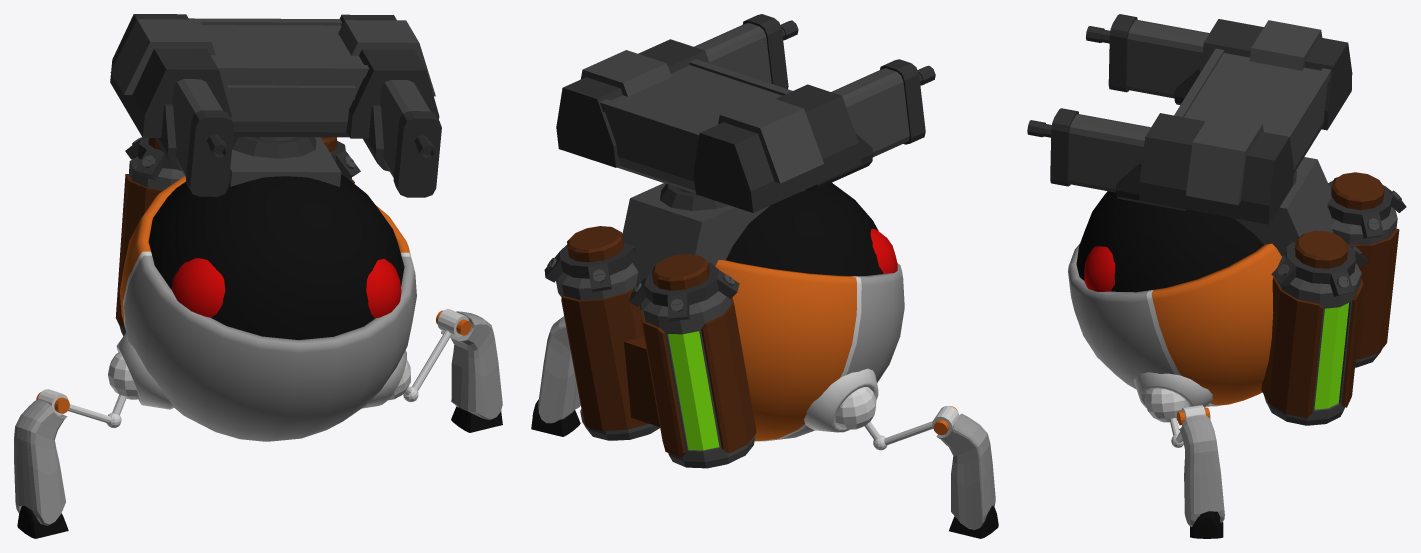
Rendered from Enemy_Large_Gun.obj.
3 views of the same model, side by side, from view 1: azimuth 30°, elevation 25°; view 2: azimuth 150°, elevation 25°; view 3: azimuth 270°, elevation 25° (orthographic). The views are drawn at different scales.
Parts seen in each view (by area): view 1: Cylinder.001_Cylinder.002; view 2: Cylinder.001_Cylinder.002; view 3: Cylinder.001_Cylinder.002.
Part boxes in pixels (left/top/right/bottom): Cylinder.001_Cylinder.002: left=14, top=14, right=502, bottom=538; Cylinder.001_Cylinder.002: left=531, top=14, right=998, bottom=538; Cylinder.001_Cylinder.002: left=1027, top=14, right=1406, bottom=538.
Bounding box in the file's own units: 1.43 × 1.24 × 1.11.
